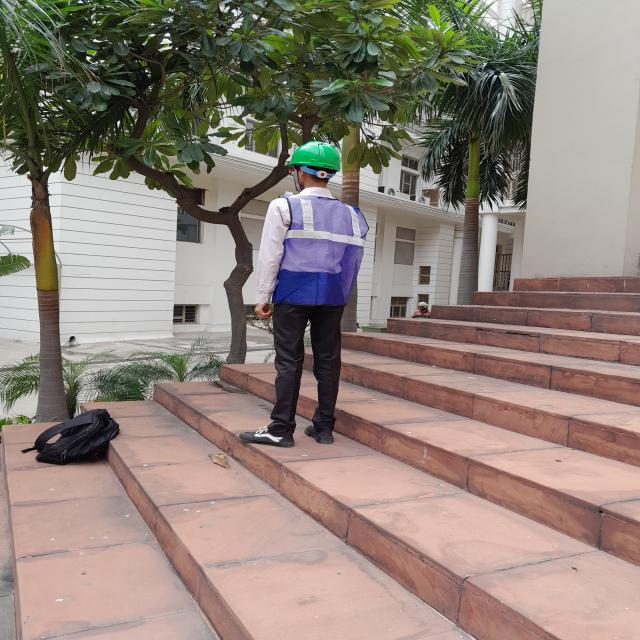safe: (240, 141, 369, 447)
